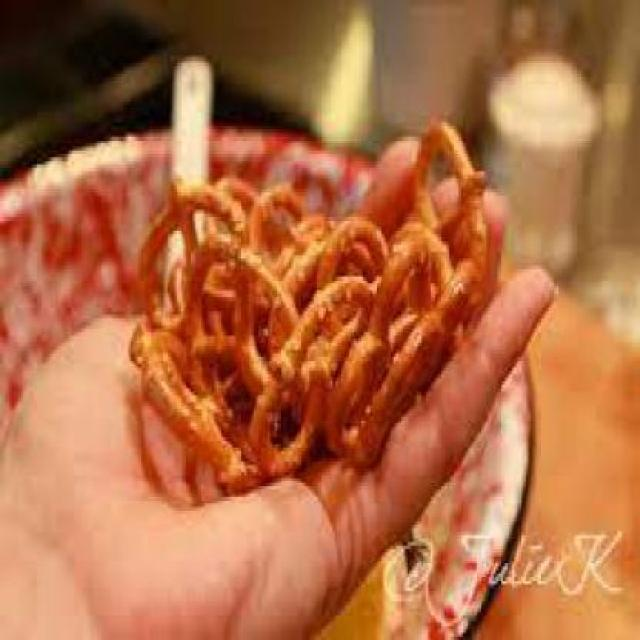Salatini packaged: (132, 111, 496, 476)
